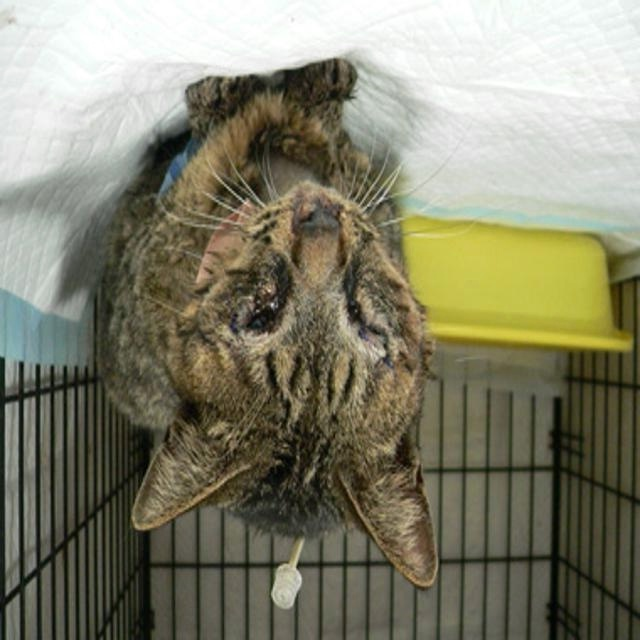eye_infection: (241, 291, 278, 336)
